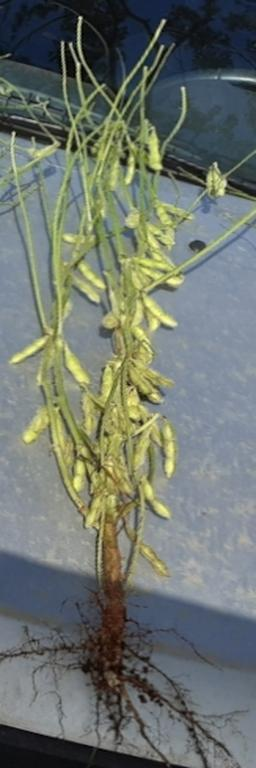pod: (157, 424, 184, 478), (8, 334, 53, 365), (144, 482, 174, 525), (142, 540, 174, 576), (21, 411, 50, 447), (148, 300, 180, 327), (67, 348, 90, 385), (82, 497, 102, 533), (82, 262, 106, 291), (74, 282, 102, 306), (147, 134, 164, 169), (74, 456, 85, 491)
soy: (17, 25, 228, 744)
